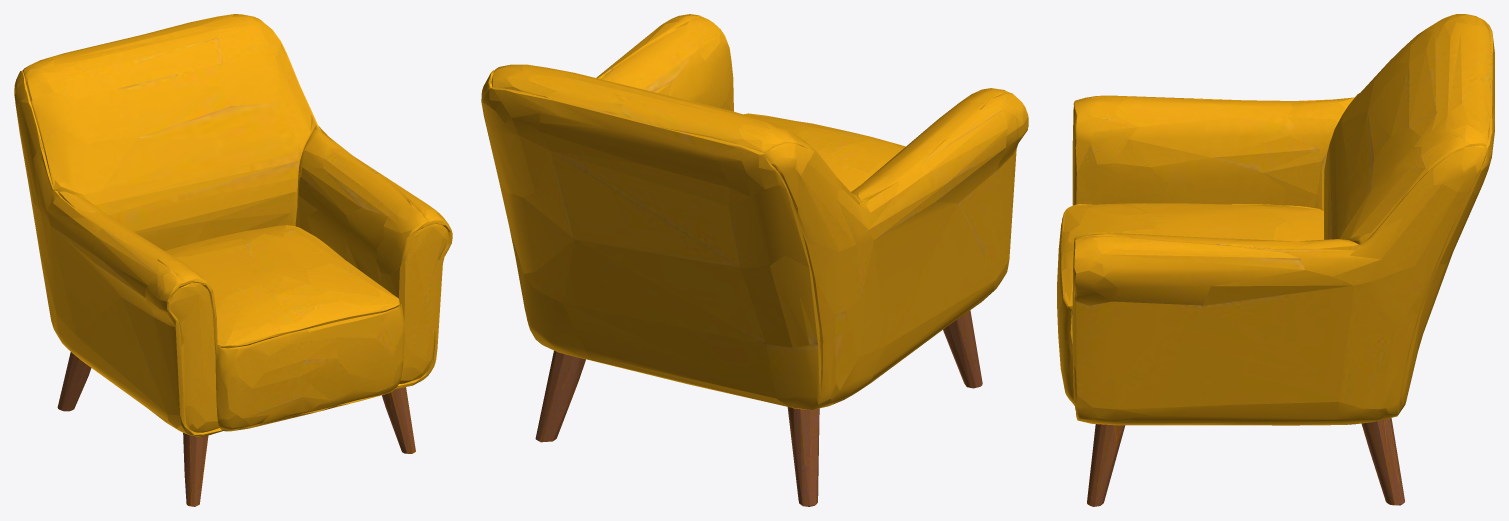
Rendered from armchair.glb.
3 renders of one model, left to right at view 1: azimuth 30°, elevation 25°; view 2: azimuth 150°, elevation 25°; view 3: azimuth 270°, elevation 25°, orthographic. The views are drawn at different scales.
Bounding box in the file's own units: 0.9419 × 1 × 1.07.
Materials: 1 (1 with a texture image).
